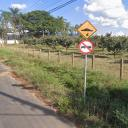NoUltrapassar: (78, 40, 94, 54)
